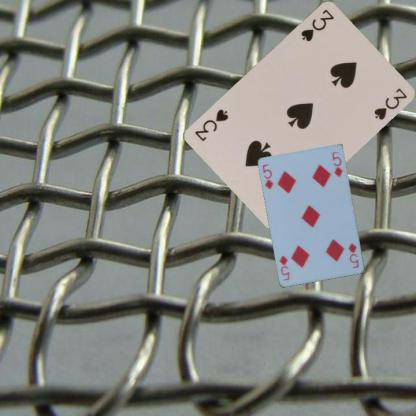3s: (298, 6, 335, 43)
5d: (260, 161, 275, 191), (346, 240, 360, 270)
